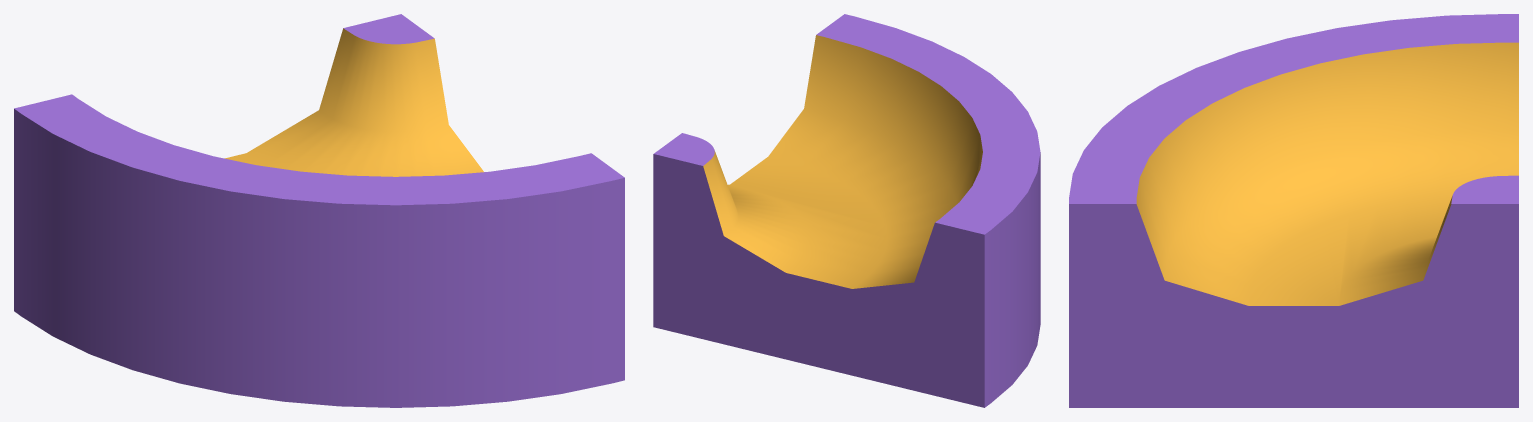
The model's file is corner-col.glb.
3 renders of one model, left to right at view 1: azimuth 30°, elevation 25°; view 2: azimuth 150°, elevation 25°; view 3: azimuth 270°, elevation 25°, orthographic. The views are drawn at different scales.
Parts seen in each view (by area): view 1: corner-col; view 2: corner-col; view 3: corner-col.
Part boxes in pixels (box(x1,y1,x2,y2)): corner-col: box(14, 14, 624, 407); corner-col: box(653, 14, 1040, 407); corner-col: box(1069, 14, 1518, 407).
Bounding box in the file's own units: 1 × 0.5 × 1.
Materials: 1 (1 with a texture image).
